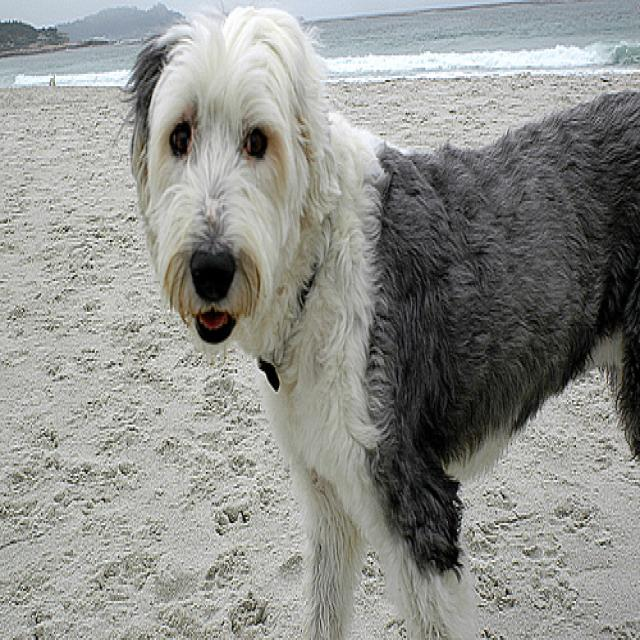dog: (134, 5, 640, 639)
